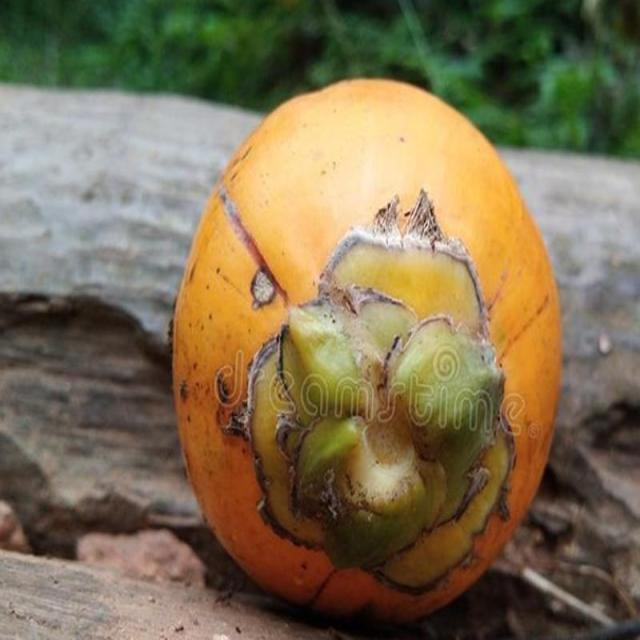good: (172, 79, 563, 629)
